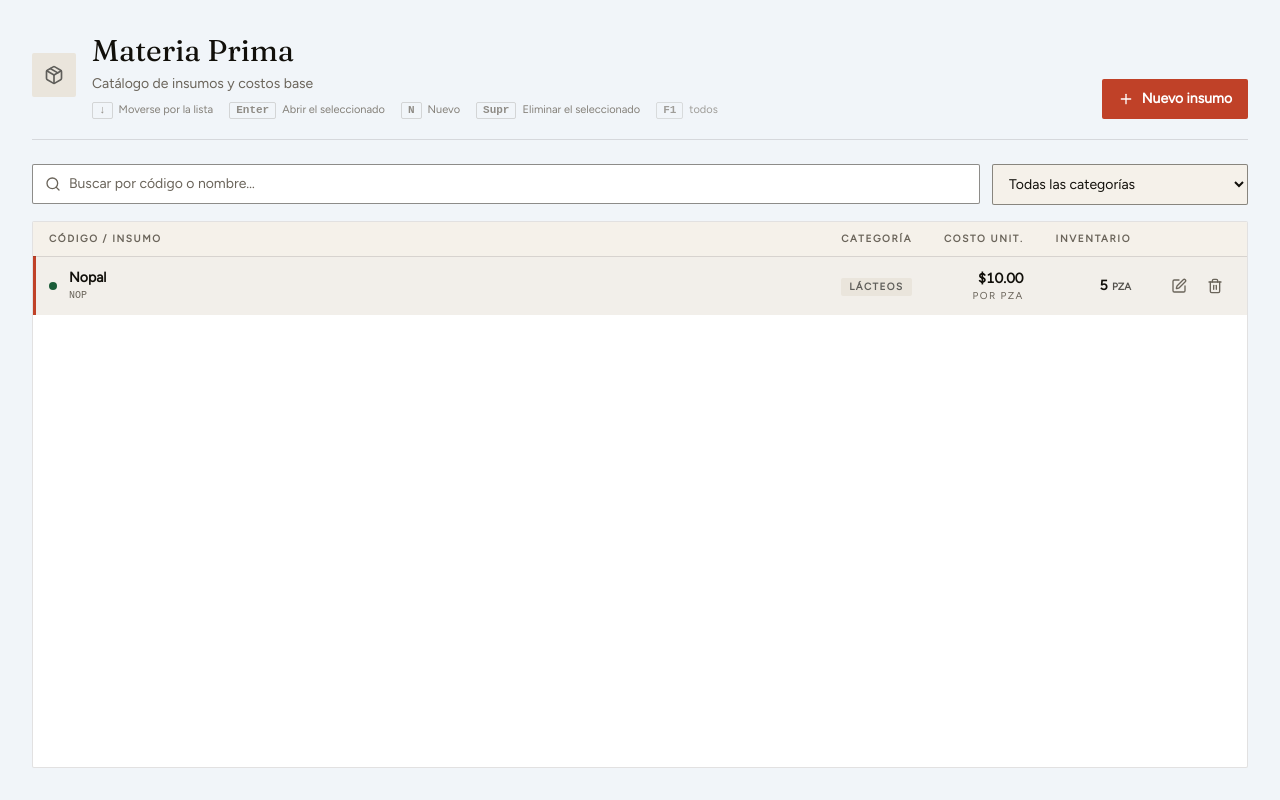
Test: IngredientesScreen · de dónde salen unidades y categorías › LA QUE IMPORTA: editar un insumo con unidad fuera de lista no le cambia la unidad
Later steps or results of the test are not shown.
Click the button named "Editar" at {"x": 1179, "y": 286}, box 1163,270 -> 1195,302
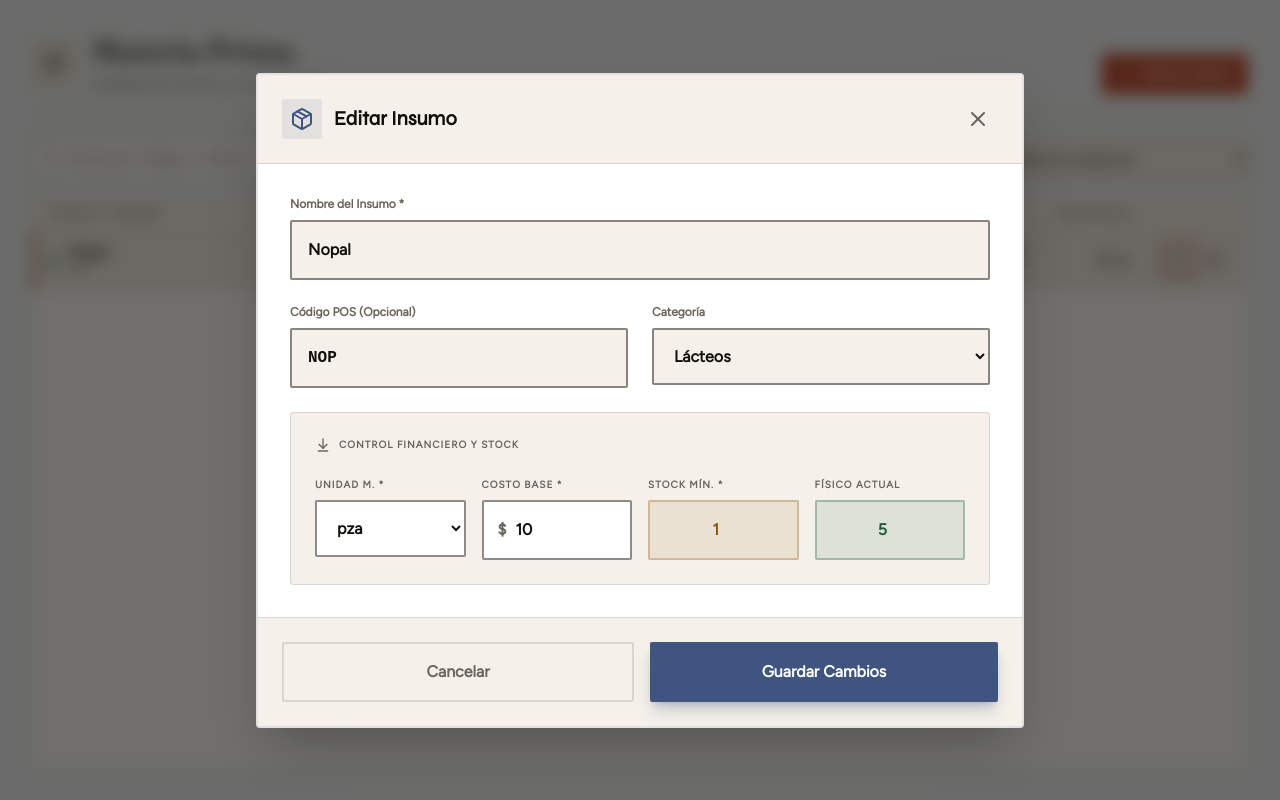
expect the dropdown named "Unidad de medida" shows "pza": met, box 315,500 -> 466,556
